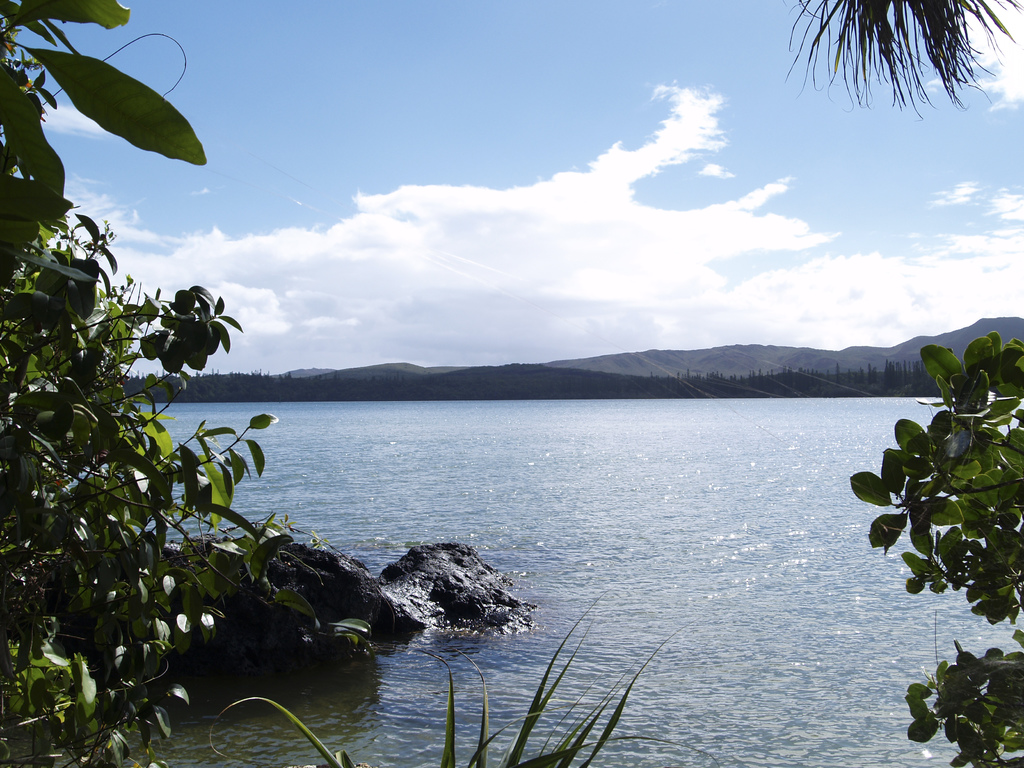Tree: (0, 0, 325, 767), (846, 327, 1023, 767), (784, 0, 992, 144), (650, 351, 936, 399), (101, 362, 301, 401)
